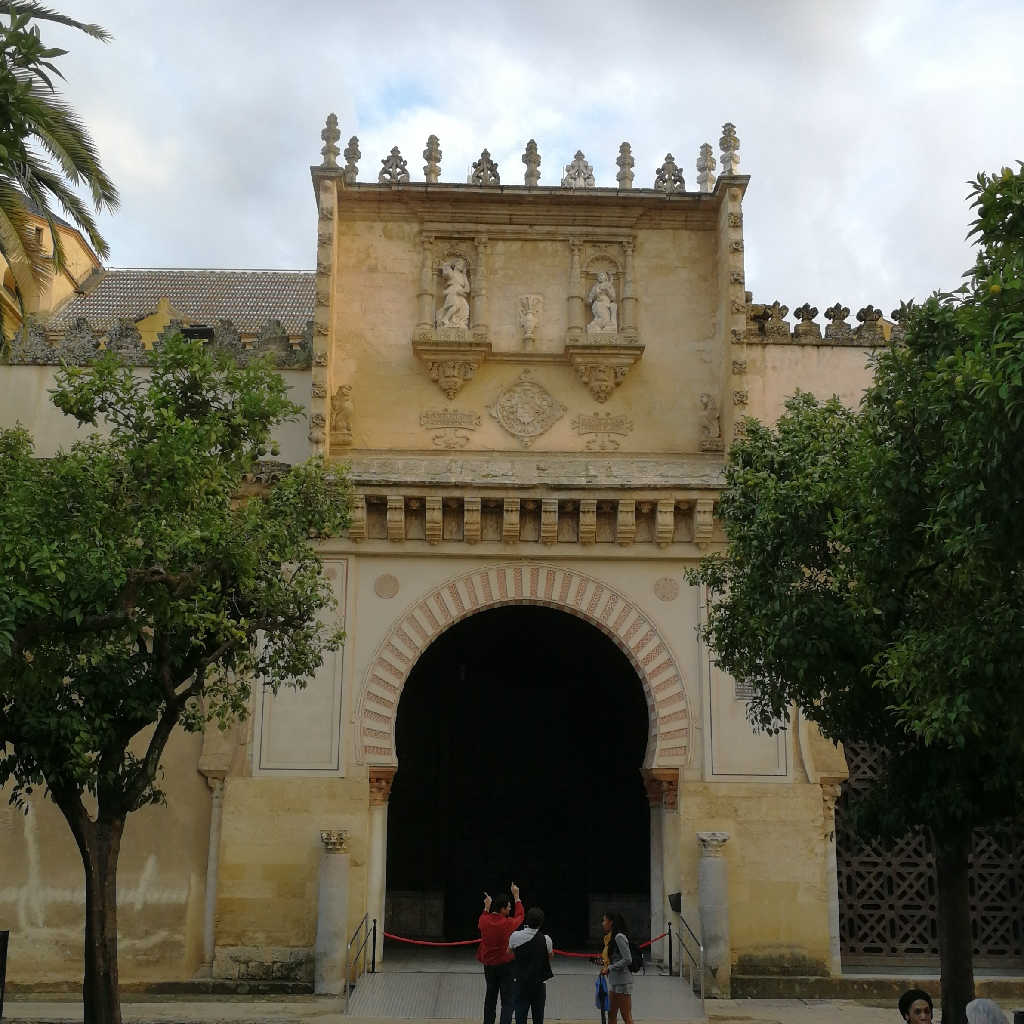arco-herradura: (373, 583, 675, 808)
